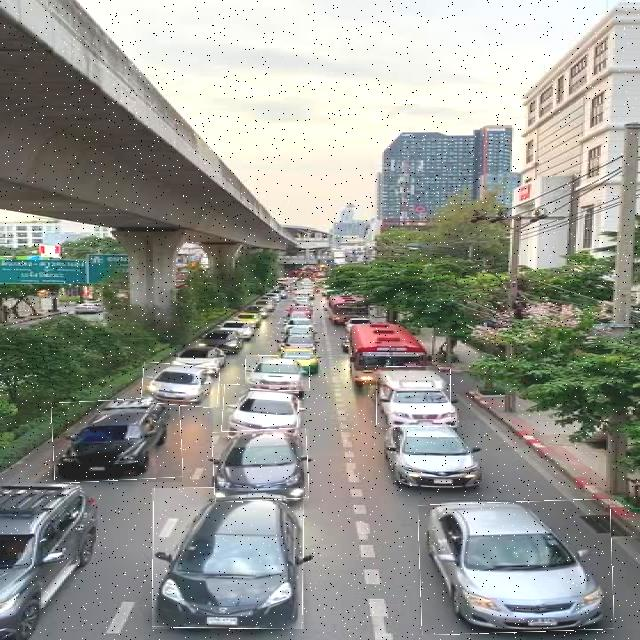Car: (419, 500, 613, 634), (152, 488, 304, 629), (52, 398, 182, 482), (213, 429, 309, 501), (394, 420, 480, 494), (377, 367, 451, 427), (222, 386, 299, 438), (142, 364, 220, 407), (246, 355, 310, 391)
